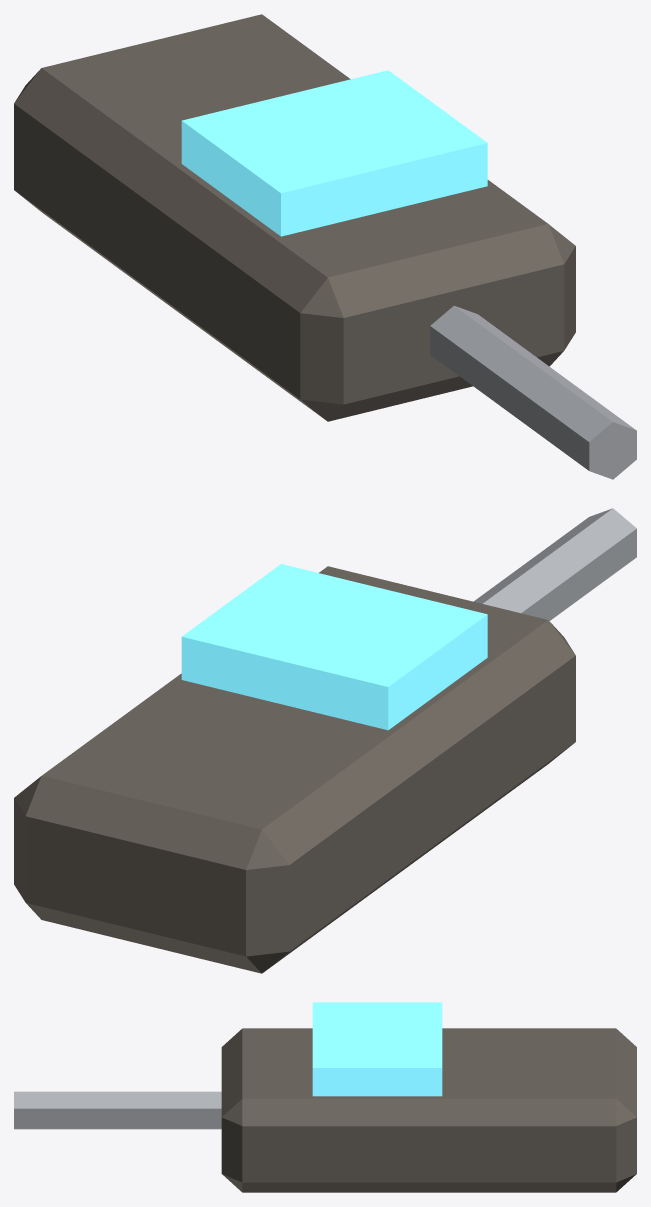
Rendered from junction_calibrator.glb.
3 views of the same model, one above another, from view 1: azimuth 30°, elevation 25°; view 2: azimuth 150°, elevation 25°; view 3: azimuth 270°, elevation 25° (orthographic). The views are drawn at different scales.
Visible parts, largest first — view 1: Tool_junction_calibrator; view 2: Tool_junction_calibrator; view 3: Tool_junction_calibrator.
Boxes of the visible parts, left/top/right/bottom form: Tool_junction_calibrator: left=14, top=14, right=636, bottom=479; Tool_junction_calibrator: left=14, top=508, right=636, bottom=973; Tool_junction_calibrator: left=14, top=1002, right=636, bottom=1192.
Bounding box in the file's own units: 0.08 × 0.052 × 0.24.
